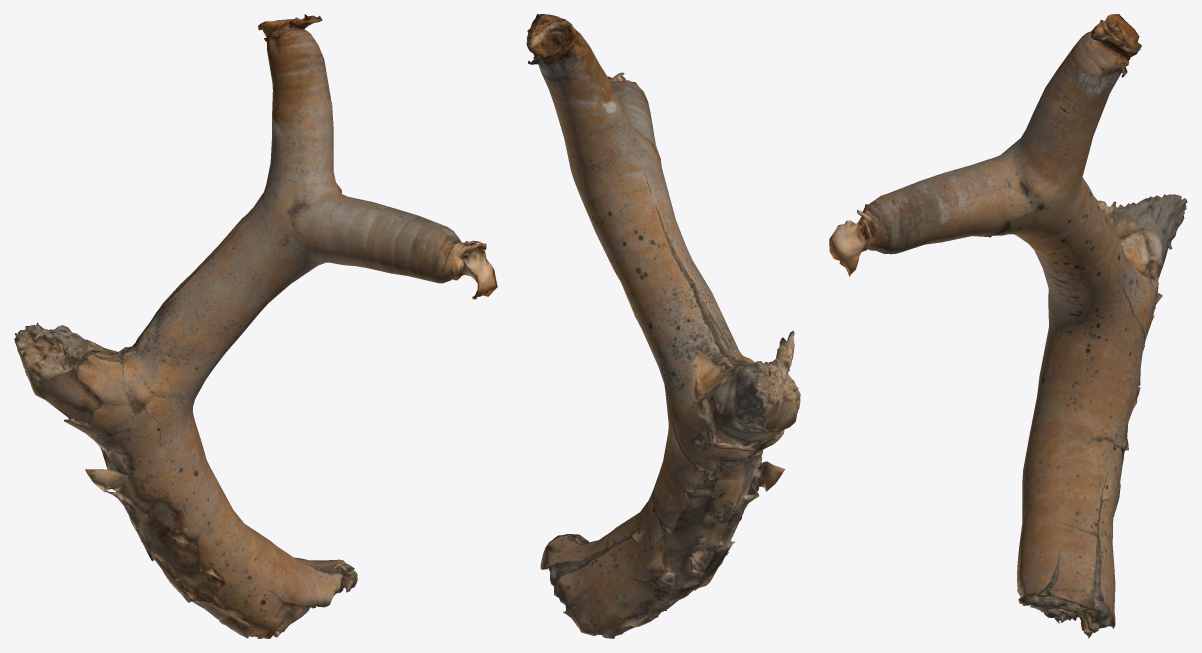
Rendered from dead_quiver_branch_01.glb.
3 renders of one model, left to right at view 1: azimuth 30°, elevation 25°; view 2: azimuth 150°, elevation 25°; view 3: azimuth 270°, elevation 25°, orthographic. The views are drawn at different scales.
Visible parts, largest first — view 1: dead_quiver_branch_01; view 2: dead_quiver_branch_01; view 3: dead_quiver_branch_01.
Boxes of the visible parts, left/top/right/bottom form: dead_quiver_branch_01: left=14, top=14, right=497, bottom=638; dead_quiver_branch_01: left=526, top=14, right=800, bottom=638; dead_quiver_branch_01: left=829, top=14, right=1187, bottom=638.
Size of the model in its own units: 0.2549 by 0.4384 by 0.2268.
1 material, 1 textured.
